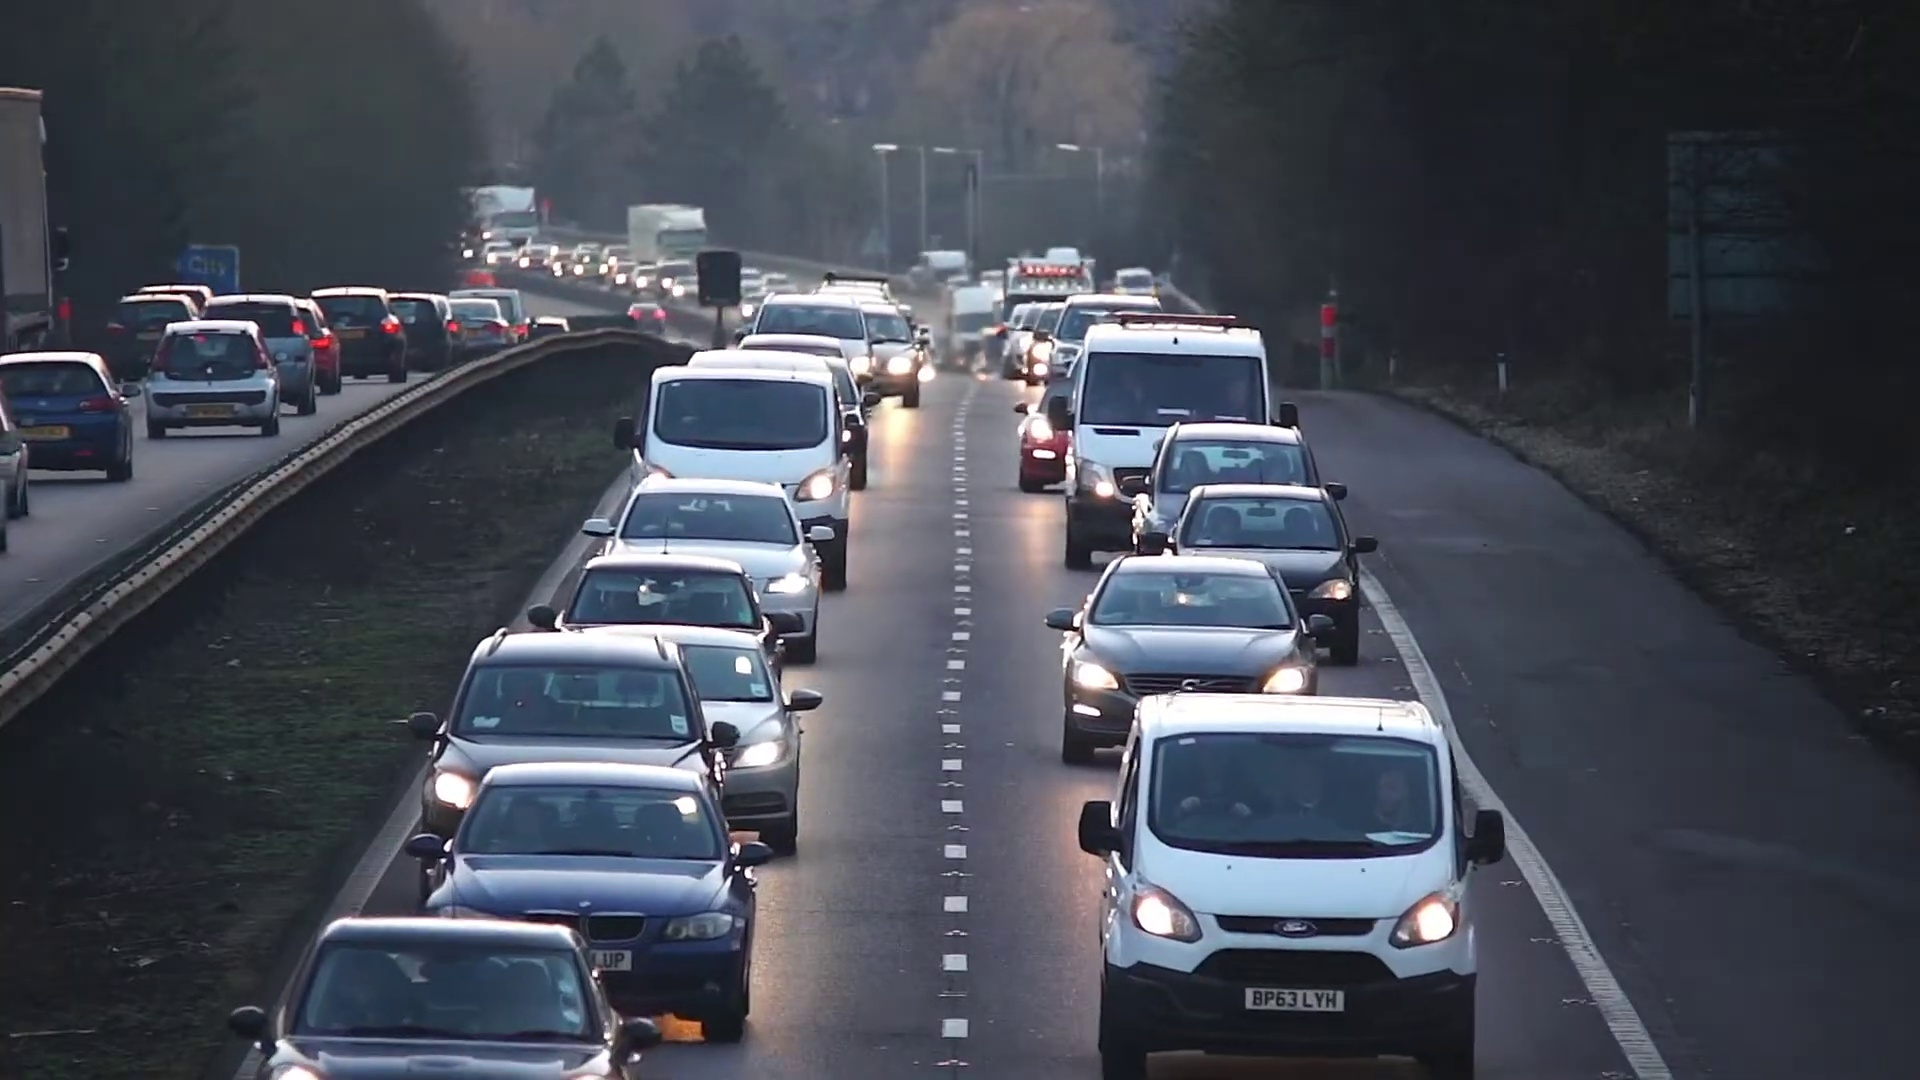license_plate: (1242, 983, 1348, 1014)
